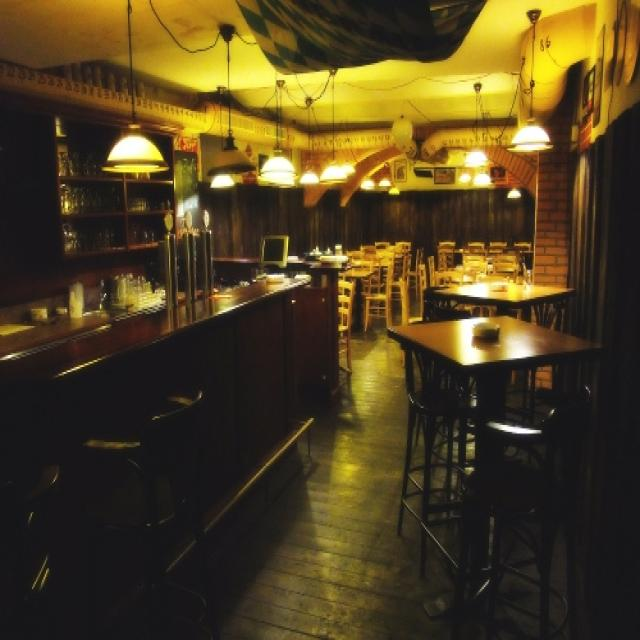Table: (367, 320, 590, 549), (439, 259, 584, 370)
chair: (524, 368, 640, 640), (135, 390, 298, 572), (15, 435, 117, 640), (82, 414, 164, 636), (406, 335, 447, 505), (332, 275, 378, 375), (358, 268, 408, 322), (387, 230, 417, 316), (467, 223, 493, 270), (437, 230, 463, 274)
